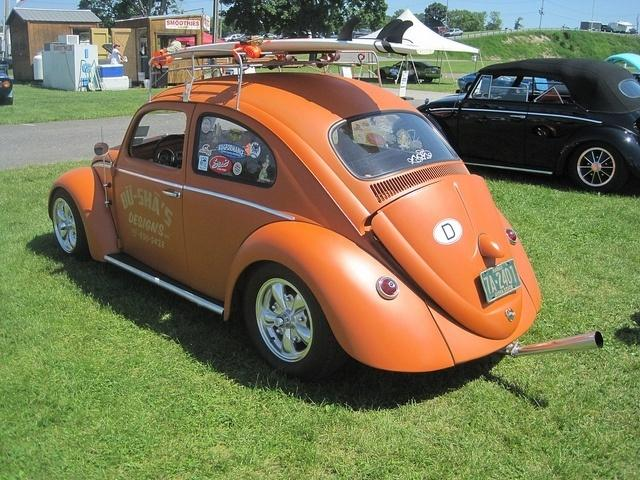car: (40, 39, 559, 381), (416, 58, 640, 193), (385, 60, 442, 84), (603, 53, 640, 82), (457, 71, 482, 92)
